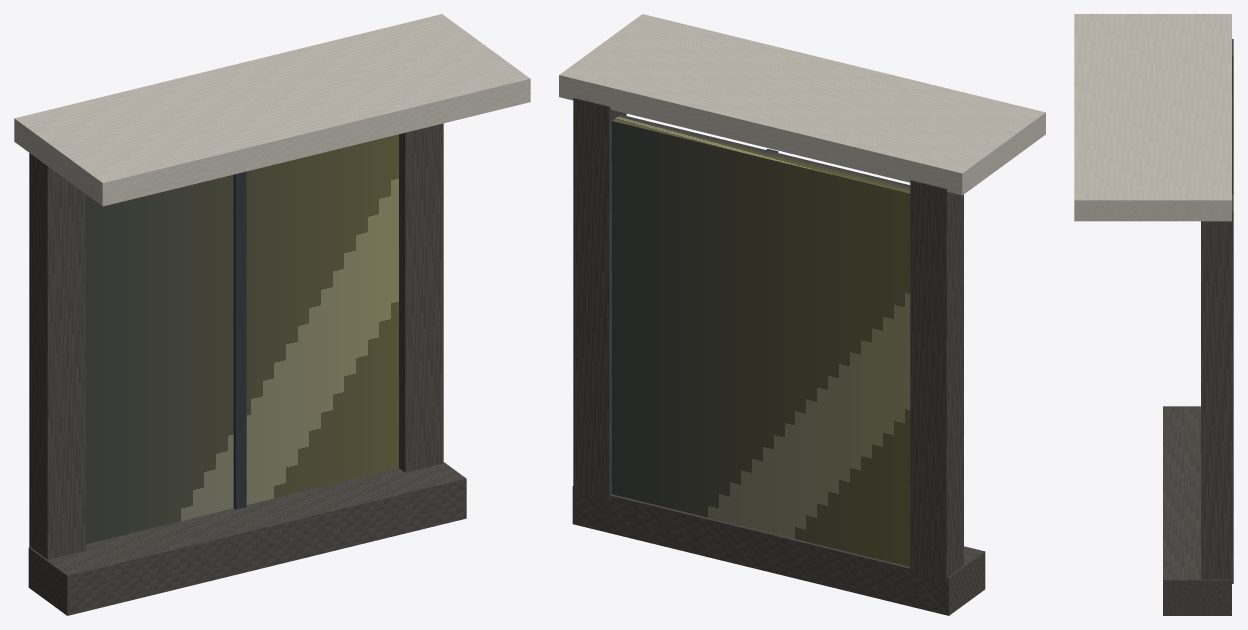
The model's file is portal-modern-lod0.glb.
3 renders of one model, left to right at view 1: azimuth 30°, elevation 25°; view 2: azimuth 150°, elevation 25°; view 3: azimuth 270°, elevation 25°, orthographic. The views are drawn at different scales.
Parts seen in each view (by area): view 1: portal-modern-lod0; view 2: portal-modern-lod0; view 3: portal-modern-lod0.
Part boxes in pixels (x1,y1,x2,y2): portal-modern-lod0: (14, 14, 530, 615); portal-modern-lod0: (559, 14, 1045, 615); portal-modern-lod0: (1074, 14, 1233, 615).
Bounding box in the file's own units: 2.68 × 2.83 × 0.97.
Materials: 1 (1 with a texture image).
